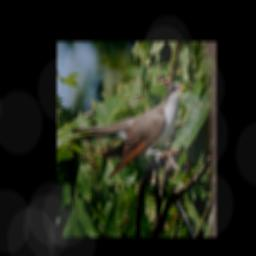Cuckoo: (67, 81, 186, 180)
